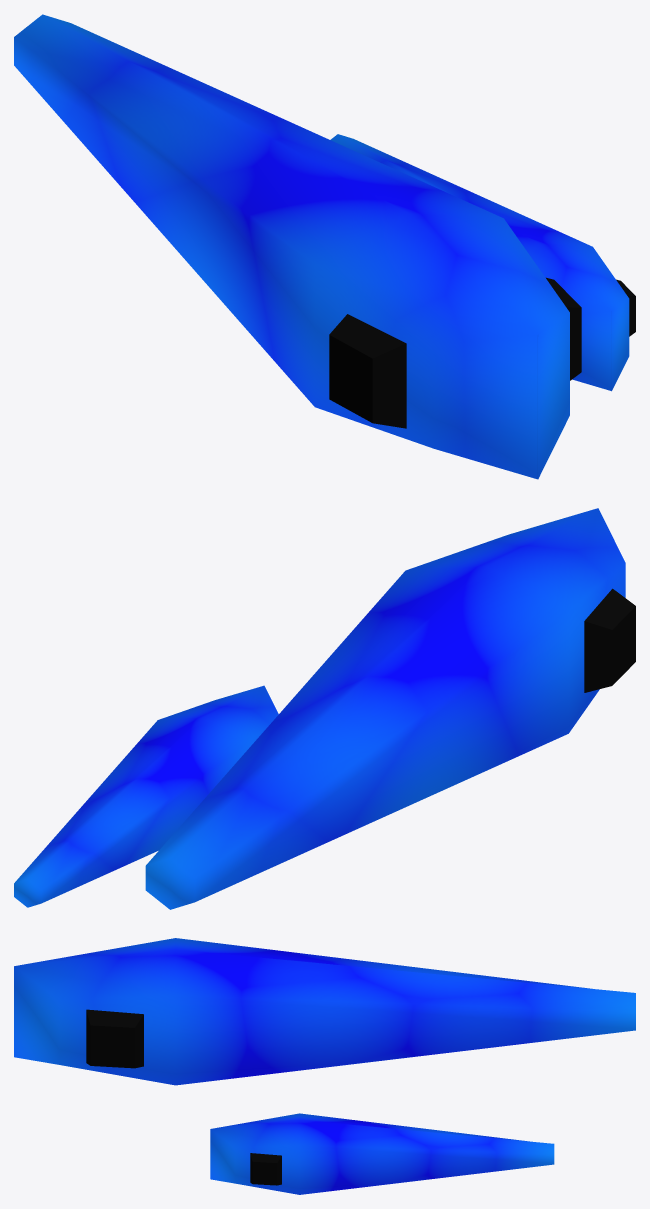
Rendered from IndumentoPet.glb.
3 renders of one model, top to bottom at view 1: azimuth 30°, elevation 25°; view 2: azimuth 150°, elevation 25°; view 3: azimuth 270°, elevation 25°, orthographic. The views are drawn at different scales.
Visible parts, largest first — view 1: SombreroPet; view 2: SombreroPet; view 3: SombreroPet.
Boxes of the visible parts, left/top/right/bottom form: SombreroPet: left=14, top=14, right=635, bottom=479; SombreroPet: left=14, top=508, right=635, bottom=909; SombreroPet: left=14, top=938, right=635, bottom=1194.
Size of the model in its own units: 0.1 by 0.0633 by 0.2119.
2 materials, 1 textured.
